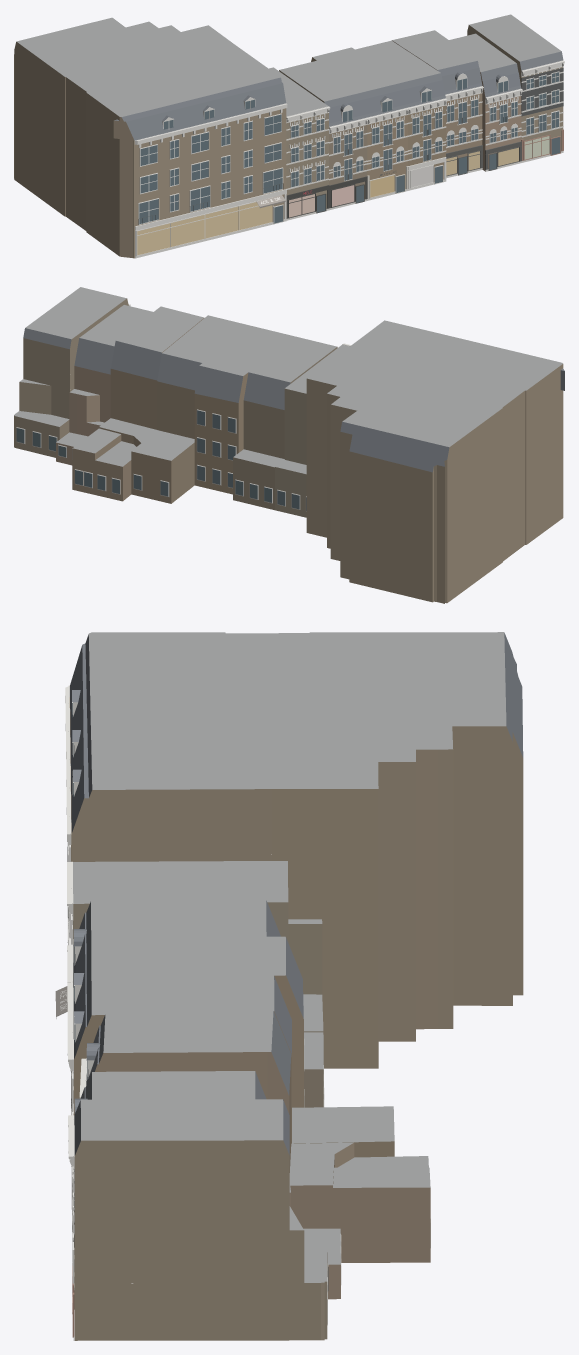
File: chunk-face-baerle-32-50.glb
The picture shows the model from 3 angles, top to bottom: view 1: azimuth 30°, elevation 25°; view 2: azimuth 150°, elevation 25°; view 3: azimuth 270°, elevation 25°; orthographic projection. The views are drawn at different scales.
Parts seen in each view (by area): view 1: face-baerle-32-50; view 2: face-baerle-32-50; view 3: face-baerle-32-50.
Boxes of the visible parts, <box> form: face-baerle-32-50: <box>14,14,564,258</box>; face-baerle-32-50: <box>14,287,564,603</box>; face-baerle-32-50: <box>55,632,523,1340</box>.
Size of the model in its own units: 67.18 by 20.23 by 30.67.
